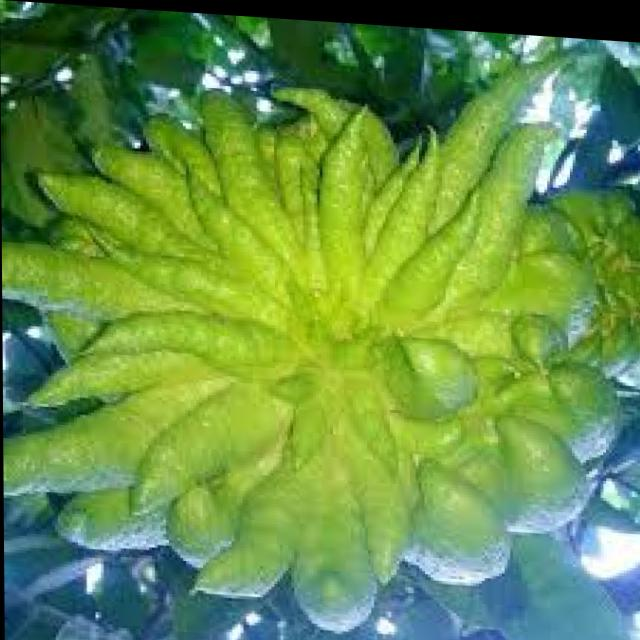PhatThu: (1, 42, 638, 634)
